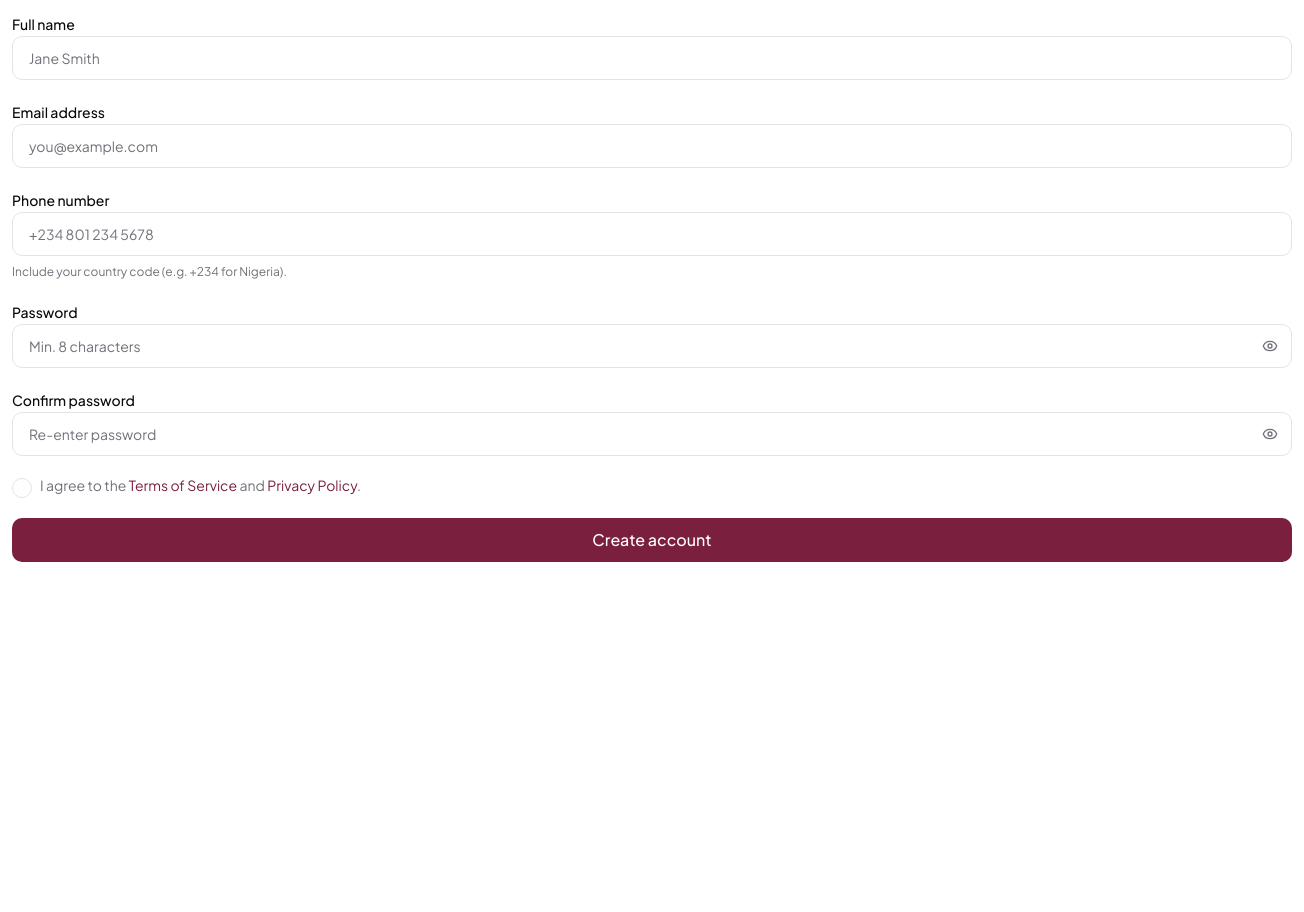
Test: RegisterForm (F8.3) › validates all required fields on empty submit
Click the button "Create account": (652, 540) x1=12 y1=518 x2=1292 y2=562
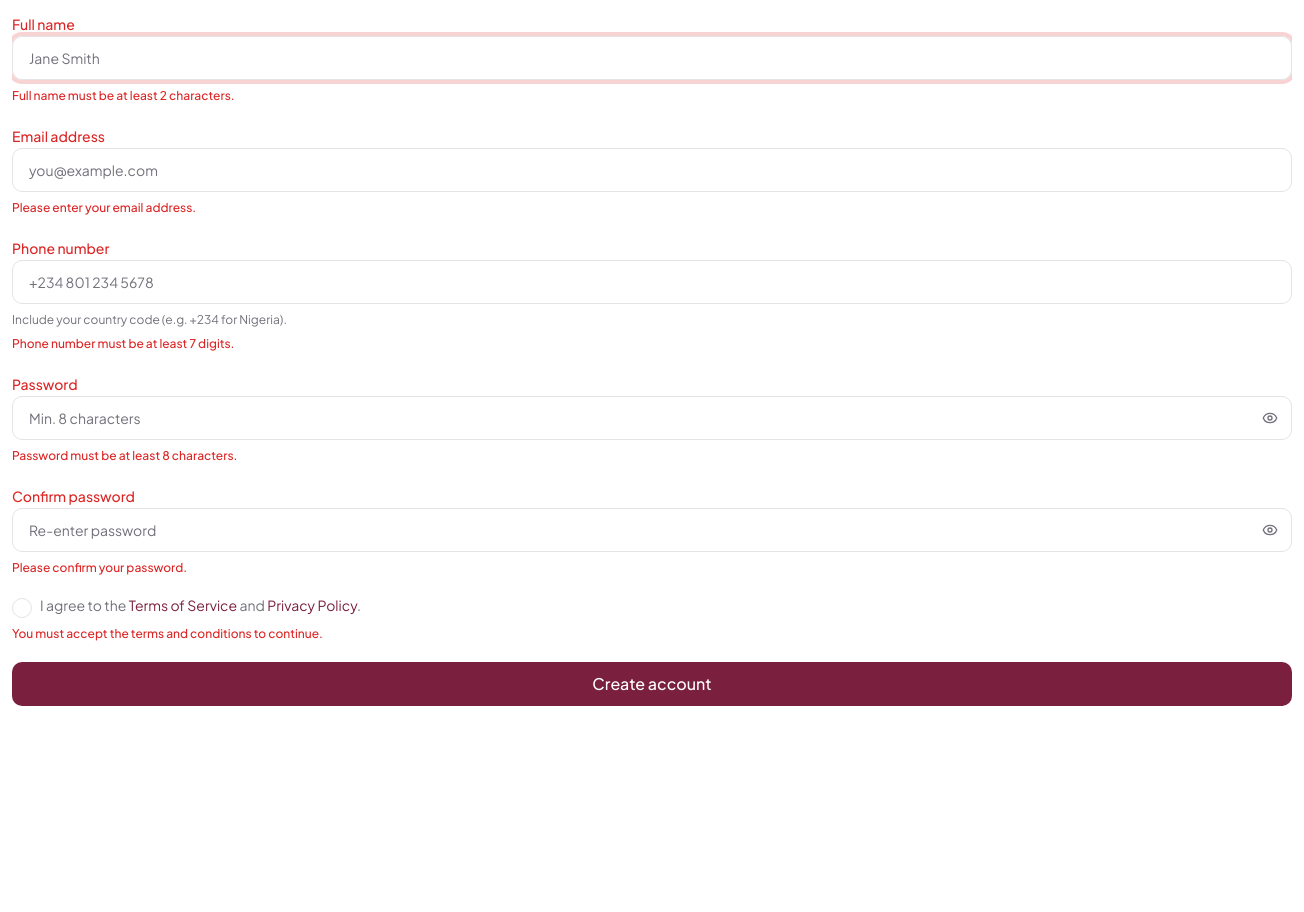
Expected: the text "Full name must be at least 2 characters." is shown, x1=12 y1=88 x2=235 y2=103
Expected: the text "Please enter your email address." is shown, x1=12 y1=200 x2=196 y2=215
Expected: the text "Phone number must be at least 7 digits." is shown, x1=12 y1=336 x2=234 y2=351
